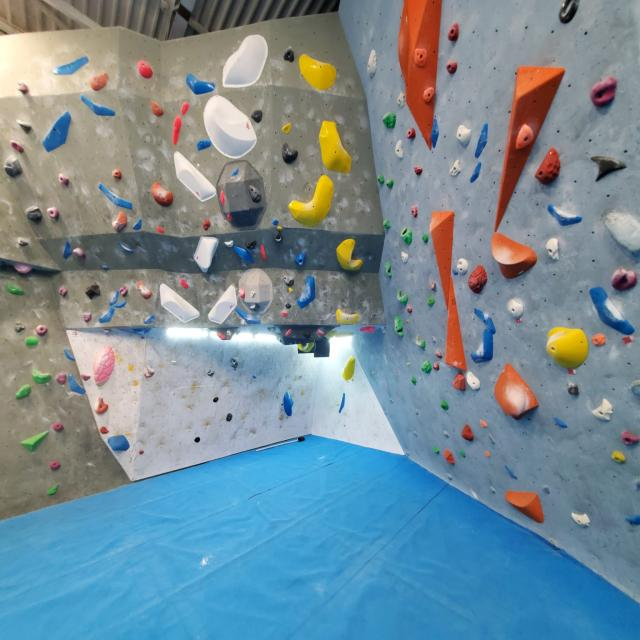Crimp: (588, 284, 635, 339), (41, 106, 74, 156), (586, 154, 630, 183), (80, 90, 116, 122), (98, 182, 135, 212), (51, 53, 90, 77), (472, 330, 495, 366), (184, 71, 216, 95), (474, 305, 499, 335), (473, 120, 490, 162), (230, 241, 256, 265), (66, 372, 86, 395), (502, 462, 521, 482), (98, 306, 116, 326), (431, 117, 441, 153), (172, 114, 182, 147), (422, 84, 436, 107), (469, 161, 482, 185), (413, 47, 428, 67), (553, 414, 569, 432), (406, 202, 421, 221), (62, 348, 78, 364), (625, 511, 640, 528), (591, 330, 606, 347), (109, 287, 120, 307), (258, 241, 267, 264), (338, 391, 346, 416), (63, 240, 72, 262), (196, 139, 212, 151), (412, 164, 424, 180), (281, 121, 293, 137), (118, 242, 134, 253), (144, 313, 156, 327), (132, 216, 142, 232), (219, 187, 226, 209), (180, 101, 191, 115), (113, 300, 128, 310), (480, 419, 490, 431), (483, 448, 492, 461), (284, 328, 294, 338), (80, 373, 92, 381), (101, 262, 109, 273), (451, 268, 459, 278), (230, 169, 240, 176), (226, 214, 233, 223), (272, 218, 279, 227), (317, 328, 326, 335), (171, 359, 178, 368), (288, 286, 294, 293), (280, 311, 288, 316), (138, 448, 144, 454), (277, 225, 282, 232)
Jug: (609, 262, 640, 295), (588, 75, 619, 108), (366, 46, 380, 85), (92, 392, 111, 420), (618, 427, 640, 446), (391, 312, 407, 338), (52, 368, 70, 390), (381, 109, 399, 131), (399, 225, 416, 248), (8, 137, 26, 157), (447, 20, 461, 44), (444, 58, 461, 76), (396, 286, 412, 305), (46, 203, 62, 221), (283, 45, 296, 65), (72, 242, 86, 260), (34, 322, 50, 337), (421, 356, 433, 376), (56, 171, 70, 188), (415, 331, 427, 350), (58, 282, 70, 300), (48, 458, 62, 473), (384, 260, 394, 280), (81, 311, 94, 324), (382, 216, 392, 232), (385, 176, 395, 192), (53, 421, 66, 433), (405, 126, 416, 140), (376, 172, 385, 185)
Pinch: (591, 398, 616, 424), (454, 124, 476, 150), (543, 237, 562, 262), (505, 297, 524, 321), (393, 139, 406, 162), (447, 160, 463, 178), (395, 91, 408, 110)
Pocket: (557, 0, 581, 27), (454, 255, 472, 277), (293, 251, 308, 270), (272, 229, 284, 246), (244, 238, 258, 250)
Sloper: (202, 93, 259, 161), (492, 361, 540, 424), (488, 228, 540, 284), (221, 33, 269, 90), (172, 148, 218, 206), (287, 173, 333, 230), (546, 322, 590, 374), (318, 119, 353, 176), (158, 282, 202, 326), (297, 50, 339, 96), (504, 486, 546, 526), (206, 281, 237, 328), (91, 341, 117, 388), (533, 144, 562, 186), (396, 2, 410, 88), (192, 233, 220, 275), (334, 237, 364, 274), (17, 428, 51, 456), (295, 275, 315, 314), (150, 179, 174, 210), (468, 263, 489, 295), (232, 305, 262, 327), (2, 156, 27, 181), (31, 362, 54, 388), (105, 433, 131, 454), (136, 57, 154, 84), (110, 210, 128, 236), (342, 354, 357, 385), (281, 140, 298, 167), (335, 307, 359, 326), (88, 72, 109, 91), (4, 279, 26, 297), (11, 260, 35, 276), (16, 381, 33, 402), (149, 99, 165, 121), (24, 204, 43, 222), (461, 422, 475, 444), (283, 390, 294, 416), (24, 334, 42, 349), (46, 481, 61, 498), (442, 448, 456, 466)
